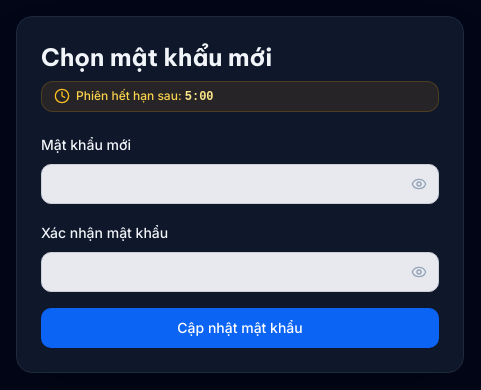
Test: ResetPassword › displays the 5-minute session timer and allows toggling password visibility
expect the text "Phiên hết hạn sau: 5:00" is shown: met, box [76,88,214,104]
expect the text "5:00" is shown: met, box [185,90,214,104]
Click the 1st button named "Hiện mật khẩu". click: (419, 184)
box: [411,176,427,192]
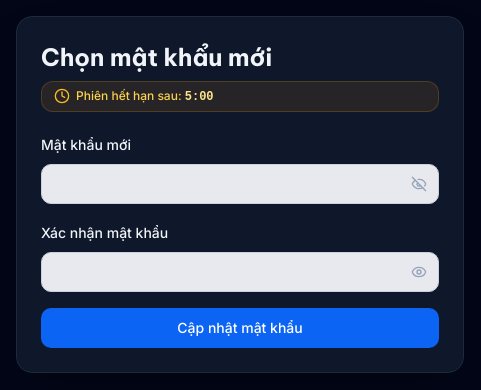
expect the button named "Ẩn mật khẩu" is shown: met, box [411,176,427,192]
